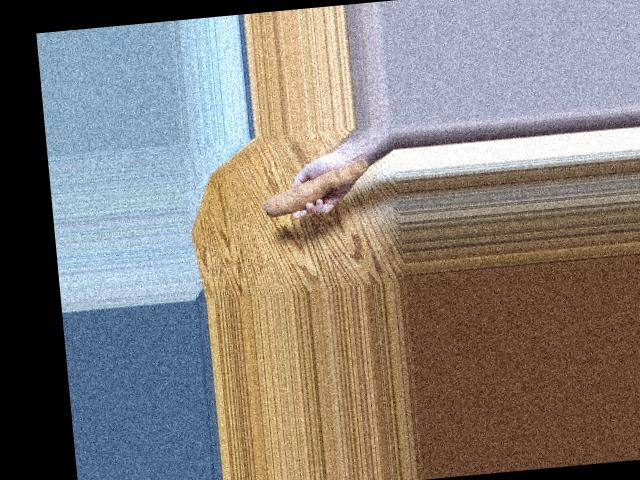sweet_potato: (259, 158, 369, 219)
